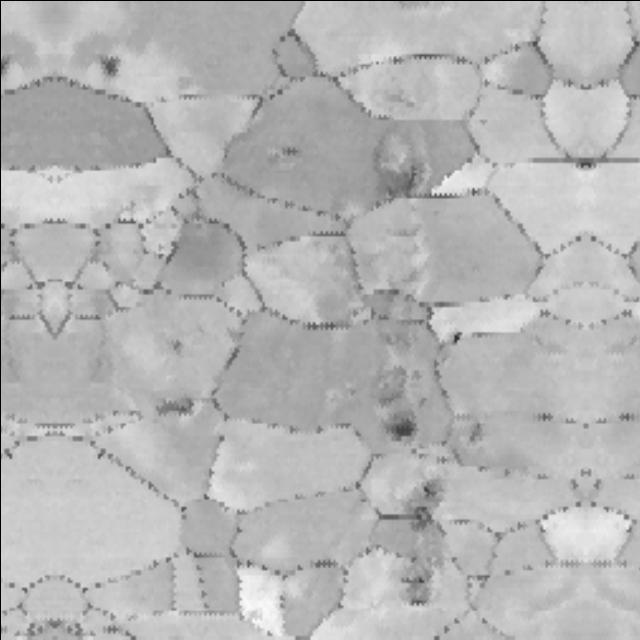good_void: (365, 137, 444, 202), (403, 474, 449, 540), (400, 548, 441, 611), (373, 367, 420, 412), (376, 409, 425, 446), (153, 394, 196, 425), (94, 54, 129, 81), (159, 331, 188, 360), (275, 140, 309, 160), (464, 418, 487, 446), (0, 54, 16, 81), (452, 324, 467, 350)
